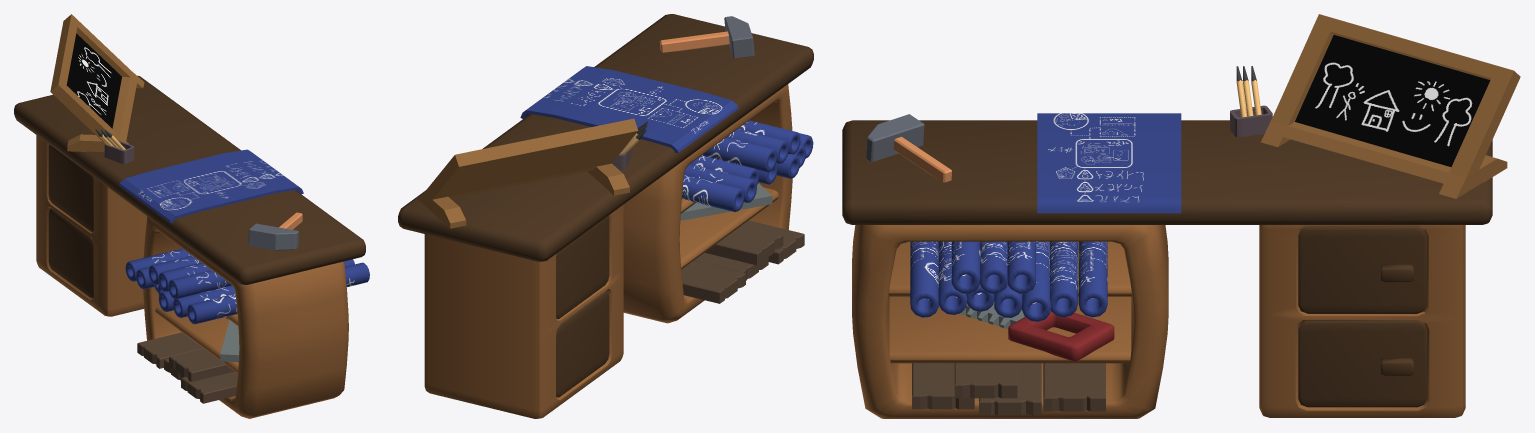
The model's file is Crafting Station.fbx.
The picture shows the model from 3 angles, left to right: view 1: azimuth 30°, elevation 25°; view 2: azimuth 150°, elevation 25°; view 3: azimuth 270°, elevation 25°; orthographic projection. The views are drawn at different scales.
Visible parts, largest first — view 1: Table, Box, Drawer, Blueprint frame, Plane, Shelf2, Cylinder.007, Hammer, Plank, Plank1, Plank3, Cylinder.008 (+6 smaller); view 2: Drawer, Table, Box, Blueprint frame, Plane, Shelf2, Plank1, Plank, Hammer, Cylinder.010, Cylinder.006, Cylinder.001 (+7 smaller); view 3: Table, Drawer, Blueprint frame, Box, Plane, Shelf2, Sawhandle, Plank1, Hammer, Plank, Plank3, Shelf1 (+13 smaller).
Part boxes in pixels (x1,y1,x2,y2): Table: (14, 75, 365, 284); Box: (143, 216, 348, 418); Drawer: (36, 135, 147, 316); Blueprint frame: (50, 14, 144, 152); Plane: (119, 149, 303, 223); Shelf2: (155, 306, 238, 373); Cylinder.007: (187, 262, 369, 324); Hammer: (248, 212, 302, 250); Plank: (169, 348, 234, 381); Plank1: (137, 332, 203, 368); Plank3: (181, 371, 237, 403); Cylinder.008: (168, 270, 231, 298); Drawer: (424, 204, 623, 418); Table: (398, 14, 813, 261); Box: (623, 84, 792, 323); Blueprint frame: (418, 118, 638, 228); Plane: (520, 66, 738, 152); Shelf2: (679, 187, 778, 269); Plank1: (681, 261, 745, 303); Plank: (705, 225, 783, 265); Hammer: (659, 16, 754, 58); Cylinder.010: (702, 137, 776, 172); Cylinder.006: (682, 174, 744, 212); Cylinder.001: (684, 164, 756, 202); Table: (842, 120, 1492, 224); Drawer: (1259, 225, 1465, 417); Blueprint frame: (1261, 14, 1520, 198); Box: (852, 225, 1168, 418); Plane: (1037, 113, 1181, 213); Shelf2: (889, 296, 1131, 363); Sawhandle: (1008, 310, 1114, 361); Plank1: (1043, 363, 1105, 411); Hammer: (866, 114, 951, 182); Plank: (954, 363, 1017, 398); Plank3: (912, 363, 974, 409); Shelf1: (888, 241, 1132, 296).
Bounding box in the file's own units: 297 × 345 × 658.
